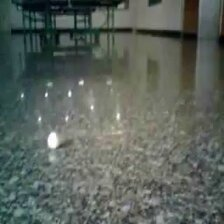w: (46, 131, 60, 150)
